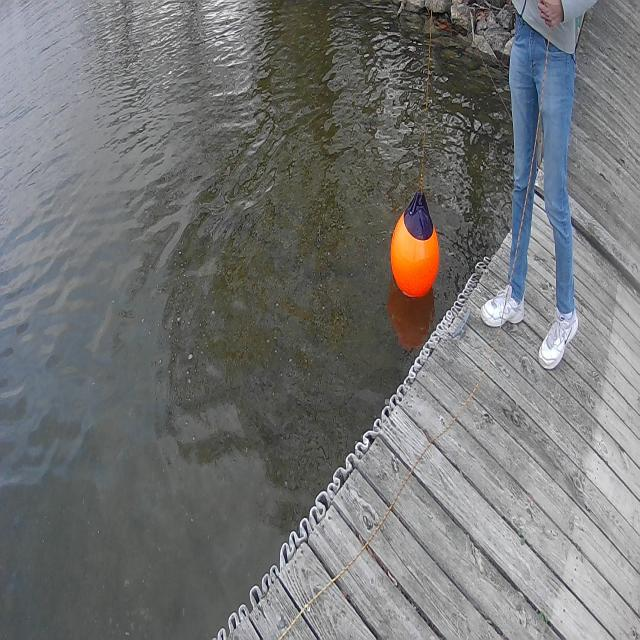Buoy: (390, 180, 442, 302)
